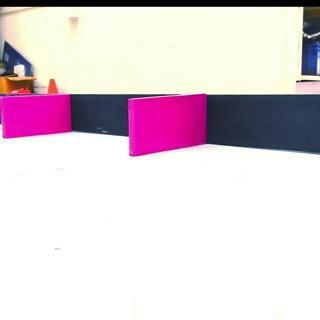xparking: (128, 94, 206, 150), (1, 94, 71, 132)
